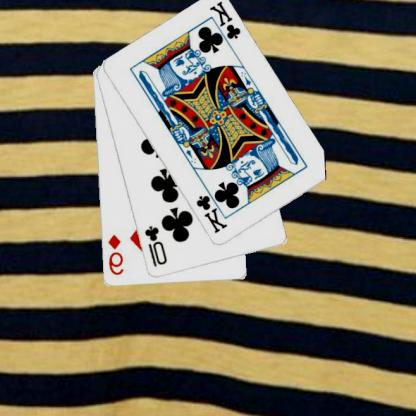10C: (143, 223, 170, 269)
6D: (107, 232, 126, 277)
KC: (194, 185, 230, 235), (209, 0, 244, 50)
